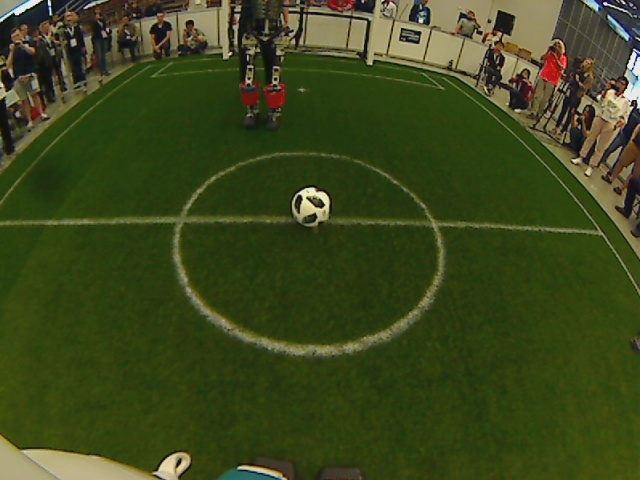ball: (287, 183, 335, 231)
